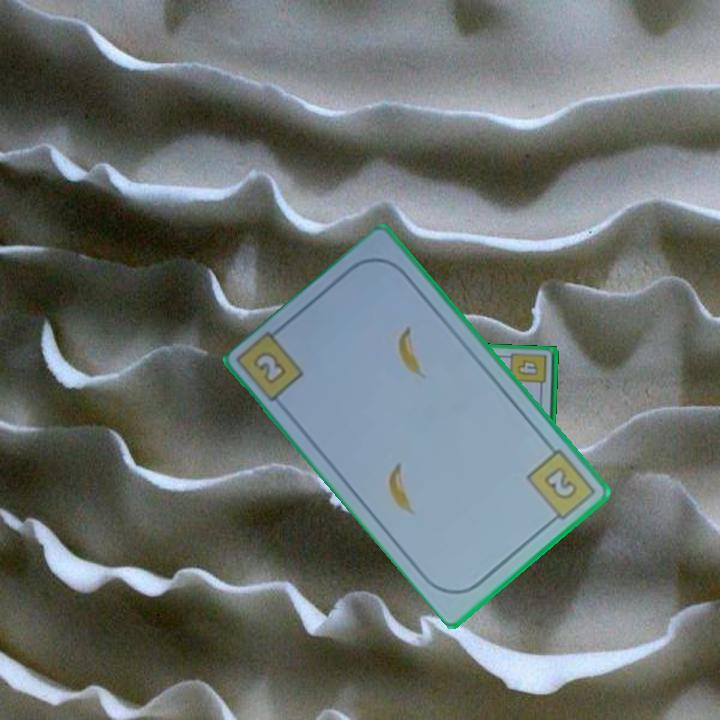2b: (522, 445, 598, 529), (249, 347, 290, 388)
4b: (507, 351, 549, 395)
